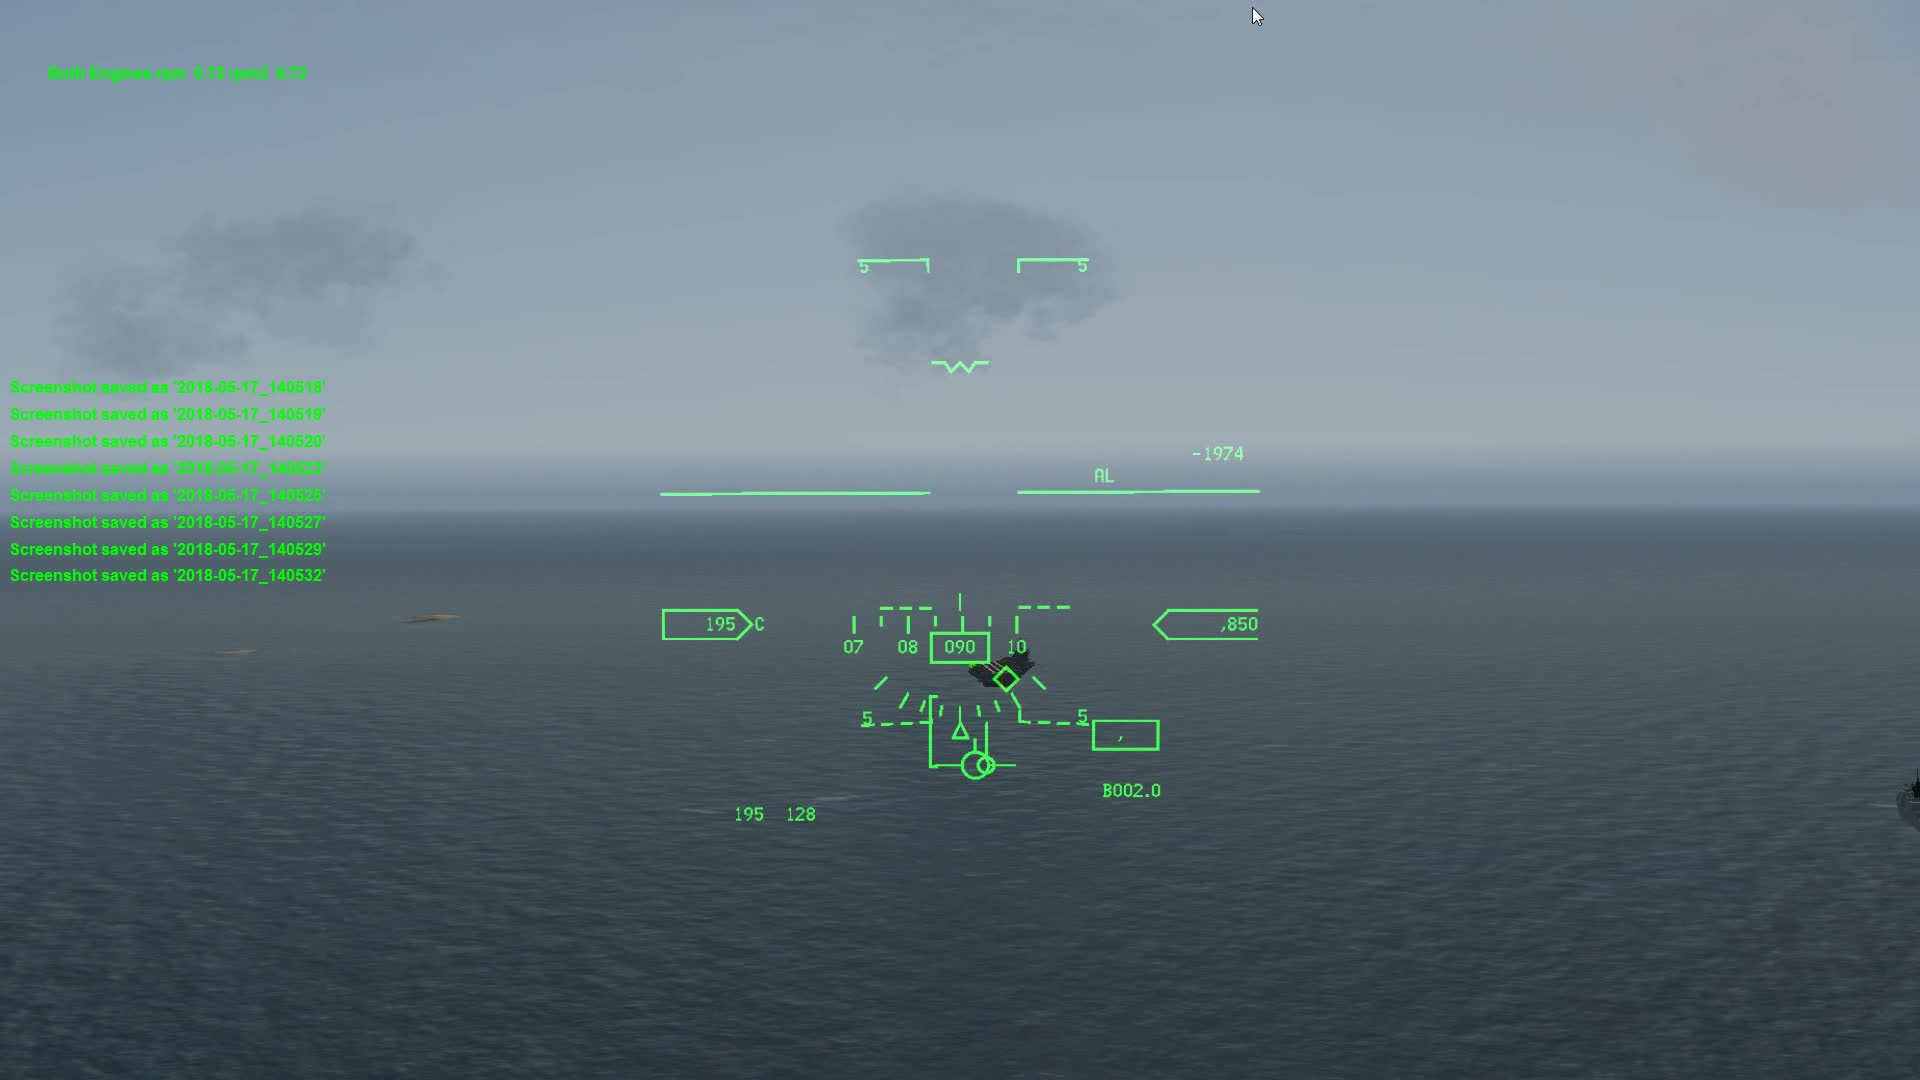speed vector: (934, 741, 1017, 783)
